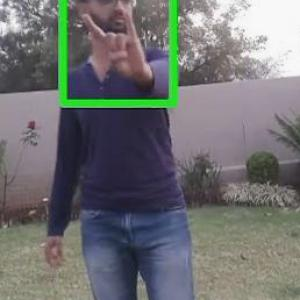takeoff-hand: (80, 0, 147, 83)
